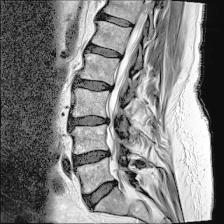disc: (84, 40, 128, 65), (96, 10, 140, 32)
hdisc: (80, 177, 124, 211), (69, 145, 116, 170), (74, 74, 118, 99), (72, 111, 113, 134)
